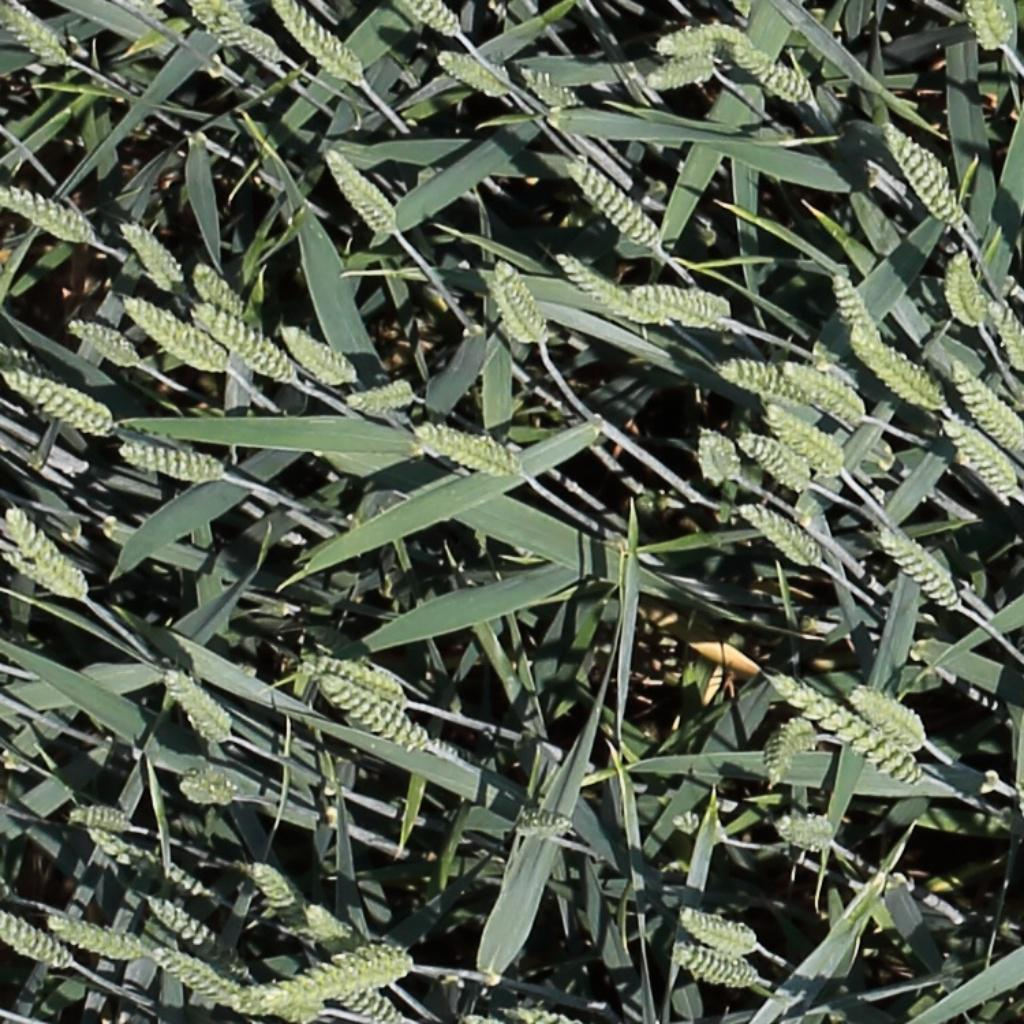0-0: (772, 677, 929, 785), (228, 935, 421, 1013), (319, 674, 462, 766), (876, 116, 970, 231), (88, 826, 220, 906), (0, 501, 93, 606), (143, 898, 258, 981), (118, 294, 231, 376), (264, 3, 371, 89), (563, 154, 659, 249), (193, 304, 300, 384), (850, 330, 948, 416), (1, 368, 122, 437), (724, 36, 828, 116), (876, 527, 969, 614), (552, 251, 663, 323), (943, 356, 1024, 454), (321, 145, 403, 239), (113, 439, 233, 499), (411, 422, 527, 481), (940, 420, 1023, 500), (763, 404, 850, 479), (297, 656, 416, 710), (0, 184, 100, 247), (737, 502, 826, 572), (158, 667, 235, 747), (662, 897, 763, 954), (235, 856, 312, 928), (156, 952, 243, 1015), (491, 260, 552, 348), (113, 215, 181, 292), (847, 689, 931, 751), (419, 47, 511, 103), (782, 363, 868, 422), (763, 716, 827, 795), (278, 323, 361, 383), (0, 912, 79, 974), (827, 262, 883, 349), (737, 431, 815, 492), (1, 2, 72, 69), (46, 917, 147, 962), (669, 943, 763, 990), (630, 285, 736, 326), (207, 13, 290, 65), (338, 373, 421, 424), (655, 17, 748, 61), (718, 360, 808, 405), (187, 259, 248, 324), (295, 899, 367, 952), (64, 318, 138, 367), (59, 791, 132, 840), (983, 293, 1024, 379), (636, 57, 724, 96), (947, 251, 989, 331), (518, 66, 587, 111), (666, 807, 732, 852), (696, 423, 740, 487), (510, 807, 576, 845), (190, 2, 244, 48), (177, 768, 242, 806), (965, 0, 1008, 55), (774, 814, 838, 850), (398, 0, 457, 38), (497, 997, 581, 1022), (338, 990, 407, 1018), (277, 1000, 330, 1020)
